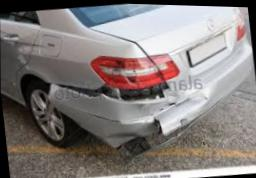Bumper: (50, 79, 215, 159)
